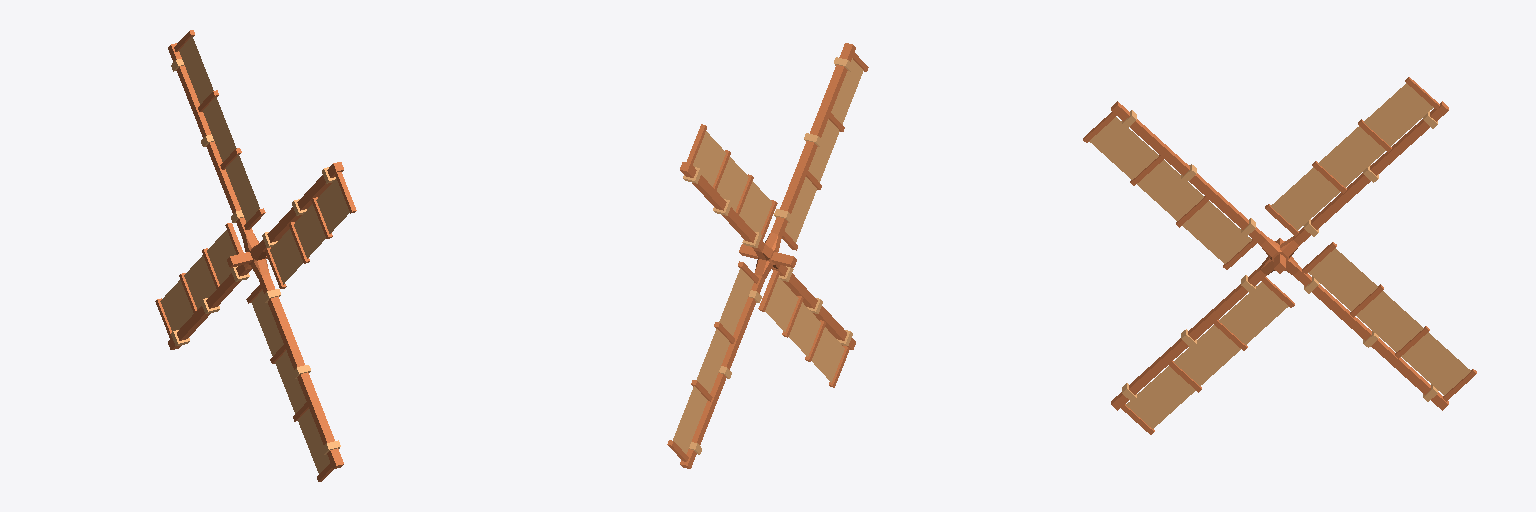
Rendered from windmill.obj.
The picture shows the model from 3 angles: view 1: azimuth 30°, elevation 25°; view 2: azimuth 150°, elevation 25°; view 3: azimuth 270°, elevation 25°; orthographic projection.
Parts seen in each view (by area): view 1: windmill; view 2: windmill; view 3: windmill.
Boxes of the visible parts, x1,y1,x2,y2 form: windmill: [155, 30, 356, 481]; windmill: [667, 43, 868, 468]; windmill: [1083, 77, 1476, 434].
Bounding box in the file's own units: 0.471 × 3.07 × 3.07.